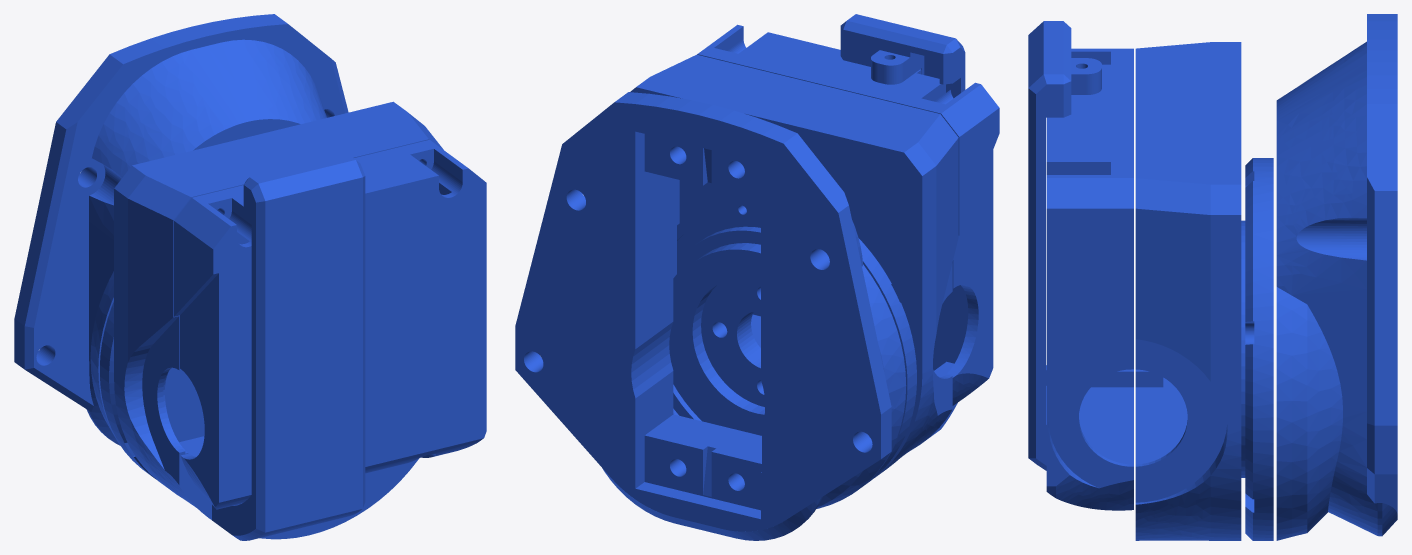
Rendered from yaw_camera.obj.
The picture shows the model from 3 angles, left to right: view 1: azimuth 30°, elevation 25°; view 2: azimuth 150°, elevation 25°; view 3: azimuth 270°, elevation 25°; orthographic projection. The views are drawn at different scales.
Visible parts, largest first — view 1: Pitch转向舵机-上盖, 旋转舵机支架, Pitch转向舵机-走线罩, 转向舵机连接器, 转向轴承固定圈; view 2: 旋转舵机支架, 转向舵机连接器, Pitch转向舵机-上盖, Pitch转向舵机-走线罩, 转向轴承固定圈; view 3: 旋转舵机支架, 转向舵机连接器, Pitch转向舵机-上盖, Pitch转向舵机-走线罩, 转向轴承固定圈.
Boxes of the visible parts, x1,y1,x2,y2 form: Pitch转向舵机-上盖: [174, 140, 486, 509]; 旋转舵机支架: [14, 14, 348, 467]; Pitch转向舵机-走线罩: [212, 153, 365, 540]; 转向舵机连接器: [114, 101, 443, 539]; 转向轴承固定圈: [100, 301, 155, 478]; 旋转舵机支架: [515, 92, 906, 540]; 转向舵机连接器: [630, 54, 958, 477]; Pitch转向舵机-上盖: [697, 24, 999, 405]; Pitch转向舵机-走线罩: [840, 14, 965, 440]; 转向轴承固定圈: [673, 218, 916, 490]; 旋转舵机支架: [1276, 14, 1397, 540]; 转向舵机连接器: [1135, 42, 1245, 540]; Pitch转向舵机-上盖: [1046, 48, 1133, 510]; Pitch转向舵机-走线罩: [1028, 21, 1101, 470]; 转向轴承固定圈: [1245, 158, 1273, 540].
Bounding box in the file's own units: 60 × 68 × 48.2.
